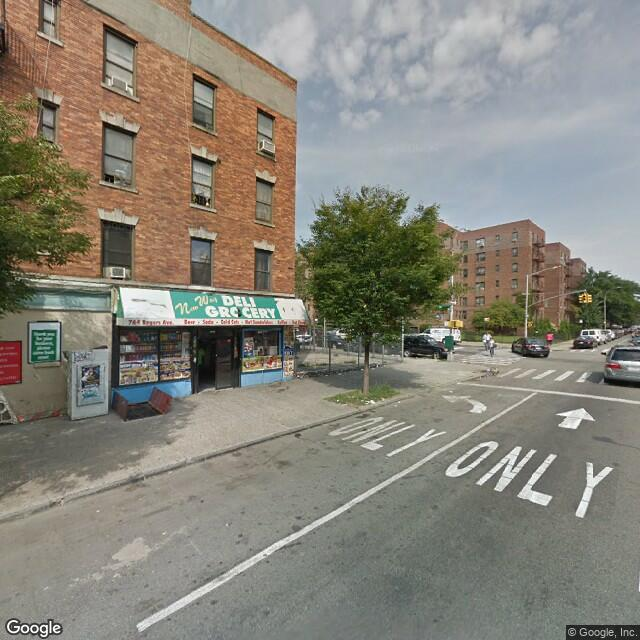litter: (294, 370, 304, 379), (372, 364, 382, 373), (221, 521, 231, 528), (365, 399, 374, 406), (391, 401, 401, 407), (92, 507, 100, 514), (167, 468, 173, 476), (336, 371, 344, 377), (333, 397, 340, 403), (321, 371, 329, 376), (448, 388, 453, 394)
